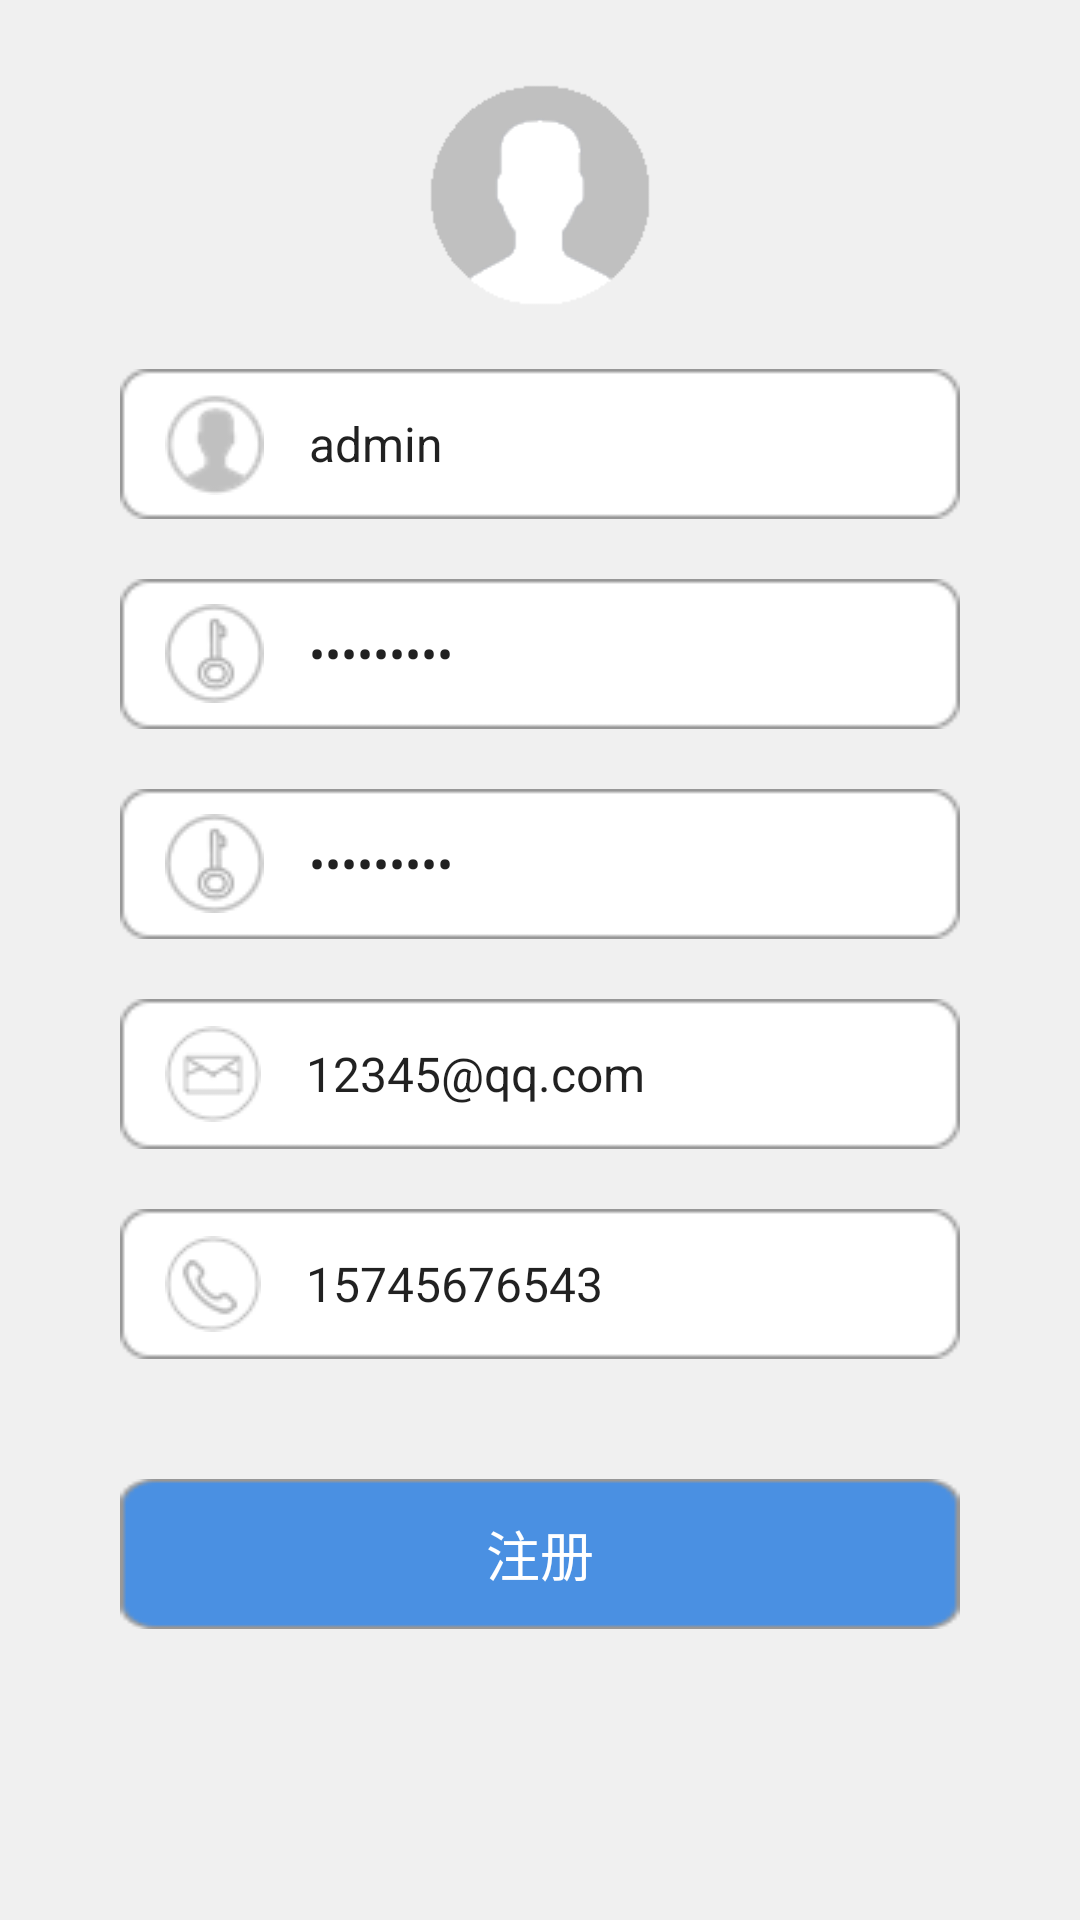

Point at icon controls on the screen. Image size 1080x1920, points as point (x, y).
userhead: point (540, 182)
